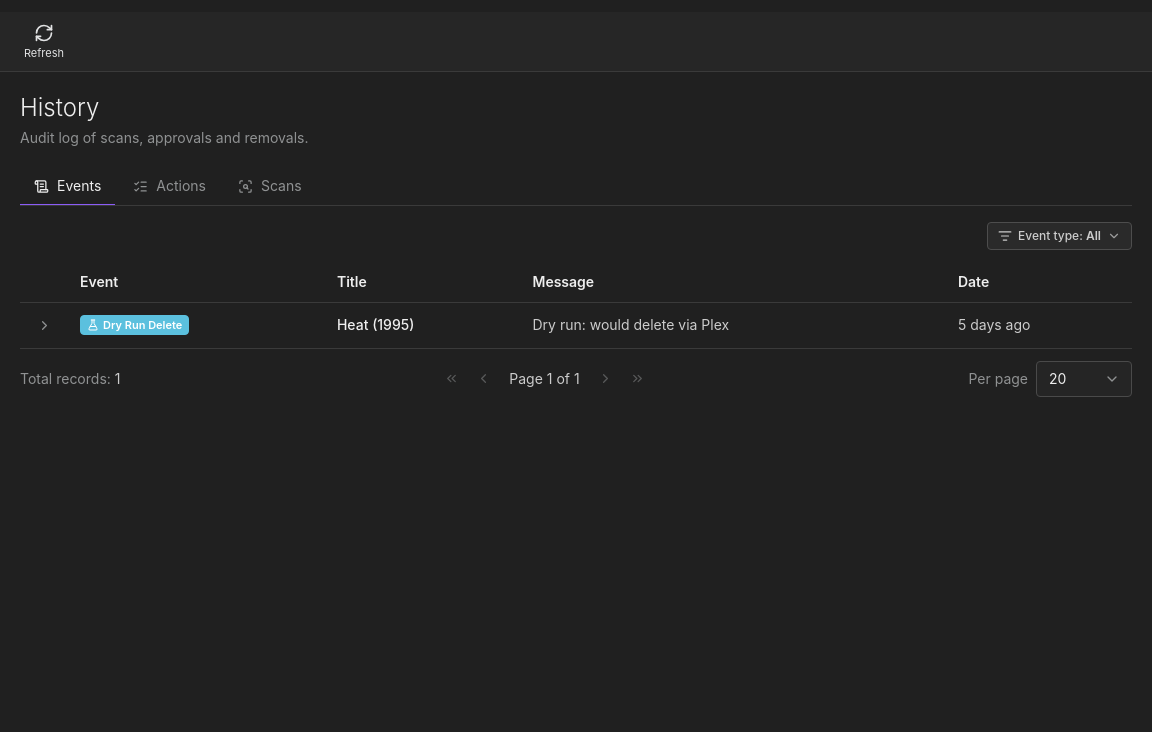
<HistoryPage> events › labels dry-run removals as hypothetical
Step 1. Click the button named "Show details of Dry Run Delete event" → x=44, y=325, box x1=32 y1=313 x2=56 y2=337
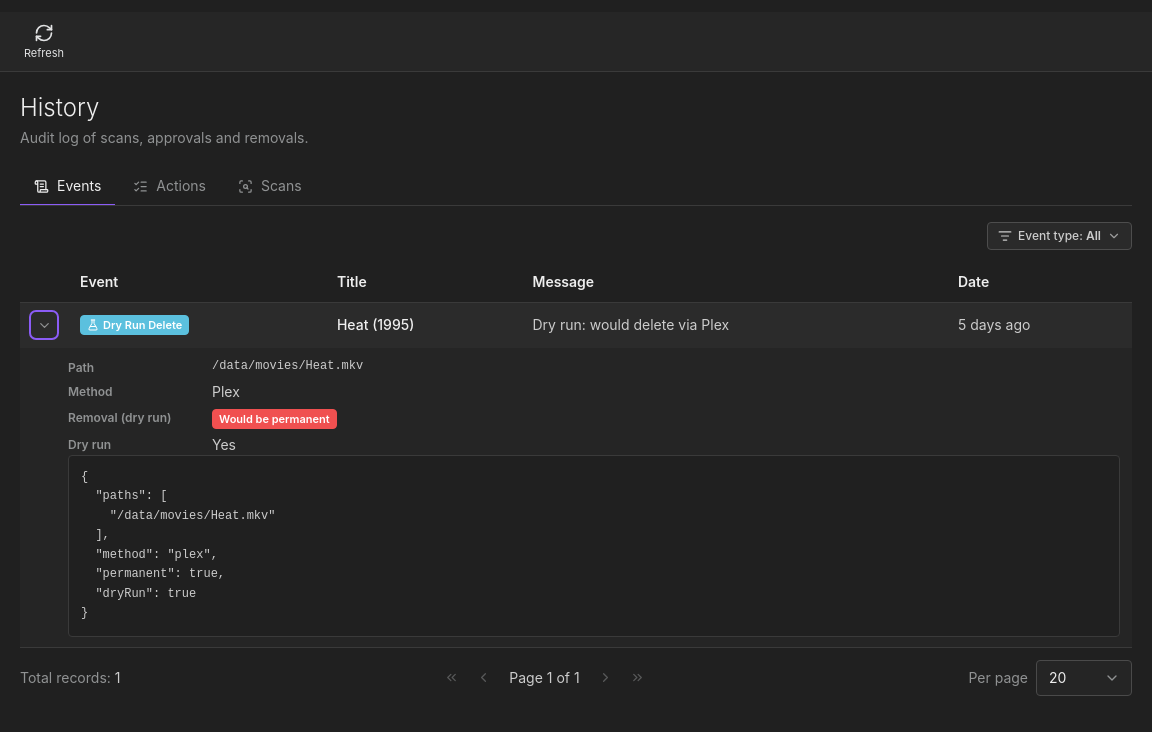
Expected: the text "Would be permanent" is shown, x1=219 y1=410 x2=330 y2=426
Expected: the text "Removal (dry run)" is shown, x1=68 y1=410 x2=172 y2=424
